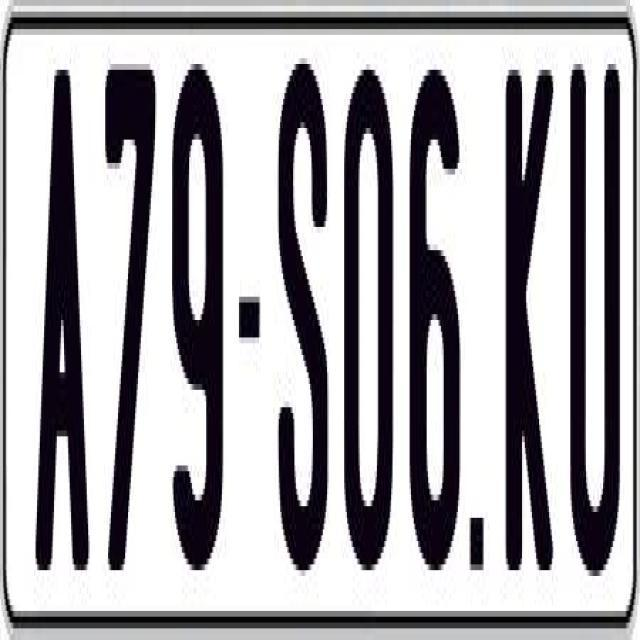0: (344, 64, 396, 600)
6: (408, 70, 462, 588)
7: (105, 52, 155, 576)
9: (172, 59, 228, 565)
A: (36, 52, 96, 576)
K: (502, 70, 553, 570)
S: (277, 58, 333, 582)
U: (571, 52, 618, 588)
